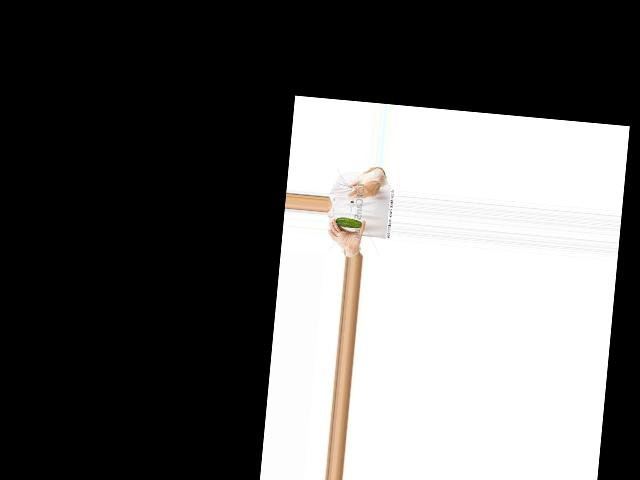cucumber: (334, 217, 362, 229)
